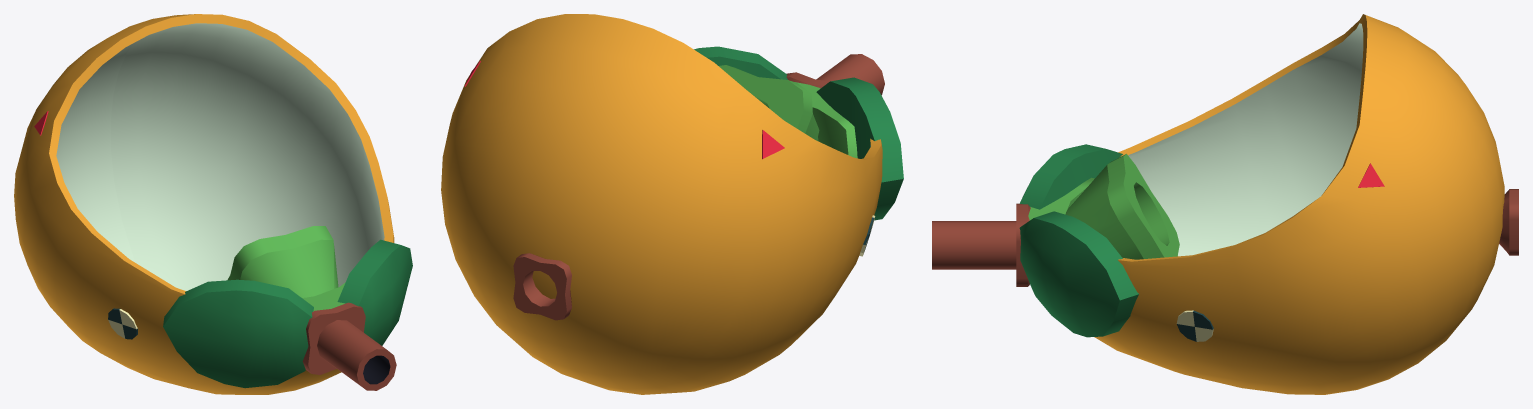
The model's file is placeholder_ship_pear.obj.
The picture shows the model from 3 angles, left to right: view 1: azimuth 30°, elevation 25°; view 2: azimuth 150°, elevation 25°; view 3: azimuth 270°, elevation 25°; orthographic projection. The views are drawn at different scales.
Parts seen in each view (by area): view 1: ship_Pear, ship_Pear_leaf, ship_Pear_Gun; view 2: ship_Pear, ship_Pear_Gun, ship_Pear_leaf; view 3: ship_Pear, ship_Pear_leaf, ship_Pear_Gun.
Part boxes in pixels (box(x1,y1,x2,y2)): ship_Pear: box(14, 14, 394, 394); ship_Pear_leaf: box(163, 239, 412, 388); ship_Pear_Gun: box(227, 226, 396, 390); ship_Pear: box(441, 14, 882, 394); ship_Pear_Gun: box(513, 54, 884, 320); ship_Pear_leaf: box(694, 46, 903, 220); ship_Pear: box(1094, 14, 1504, 394); ship_Pear_leaf: box(1019, 144, 1138, 337); ship_Pear_Gun: box(932, 154, 1518, 286).
Bounding box in the file's own units: 1.6 × 1.56 × 2.41.
